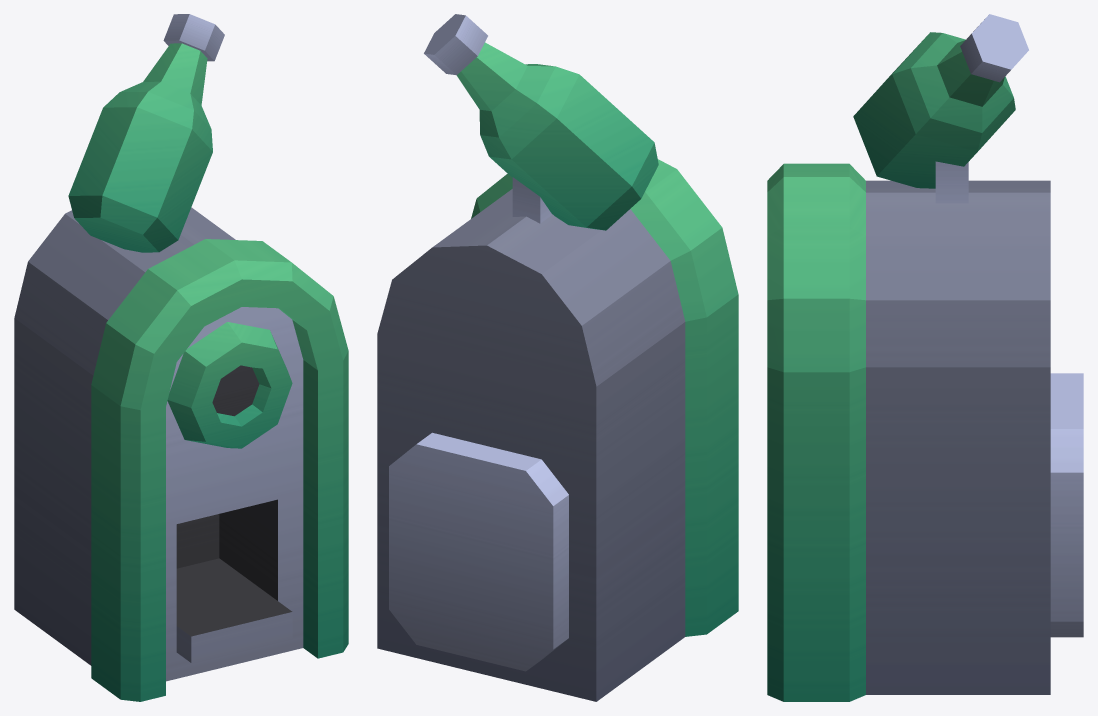
Rendered from BottleReturnMachine.obj.
3 renders of one model, left to right at view 1: azimuth 30°, elevation 25°; view 2: azimuth 150°, elevation 25°; view 3: azimuth 270°, elevation 25°, orthographic. The views are drawn at different scales.
Parts seen in each view (by area): view 1: bottle_return; view 2: bottle_return; view 3: bottle_return.
Part boxes in pixels (<box>): bottle_return: <box>14,14,348,701</box>; bottle_return: <box>377,14,738,701</box>; bottle_return: <box>767,14,1083,701</box>.
Bounding box in the file's own units: 0.7425 × 1.8 × 0.7937.
1 material, 1 textured.
